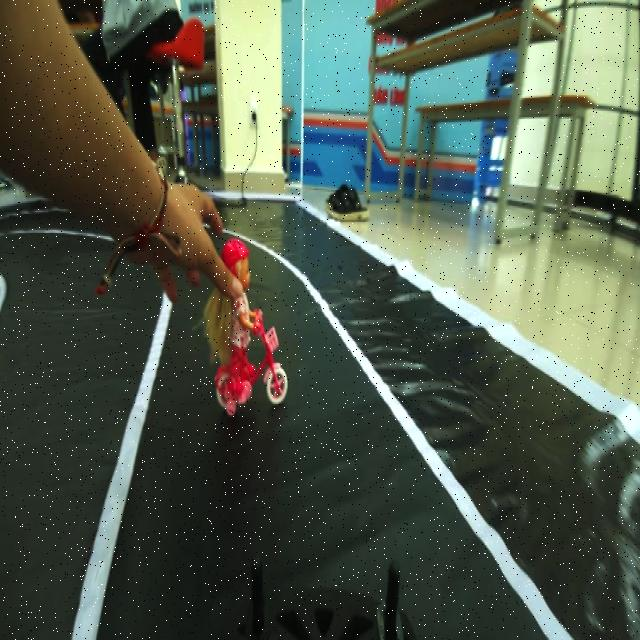pedestrian: (198, 240, 299, 411)
